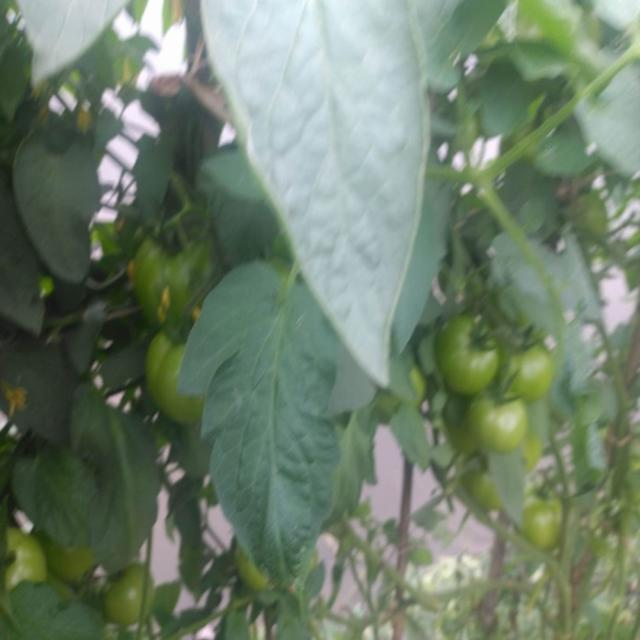tomato: (140, 232, 208, 315), (438, 313, 504, 395), (143, 339, 198, 423), (471, 386, 527, 455), (502, 337, 559, 402), (105, 565, 148, 628), (1, 529, 50, 583), (522, 495, 565, 554), (236, 543, 272, 600), (576, 185, 613, 240), (466, 465, 505, 512), (58, 542, 94, 587)
